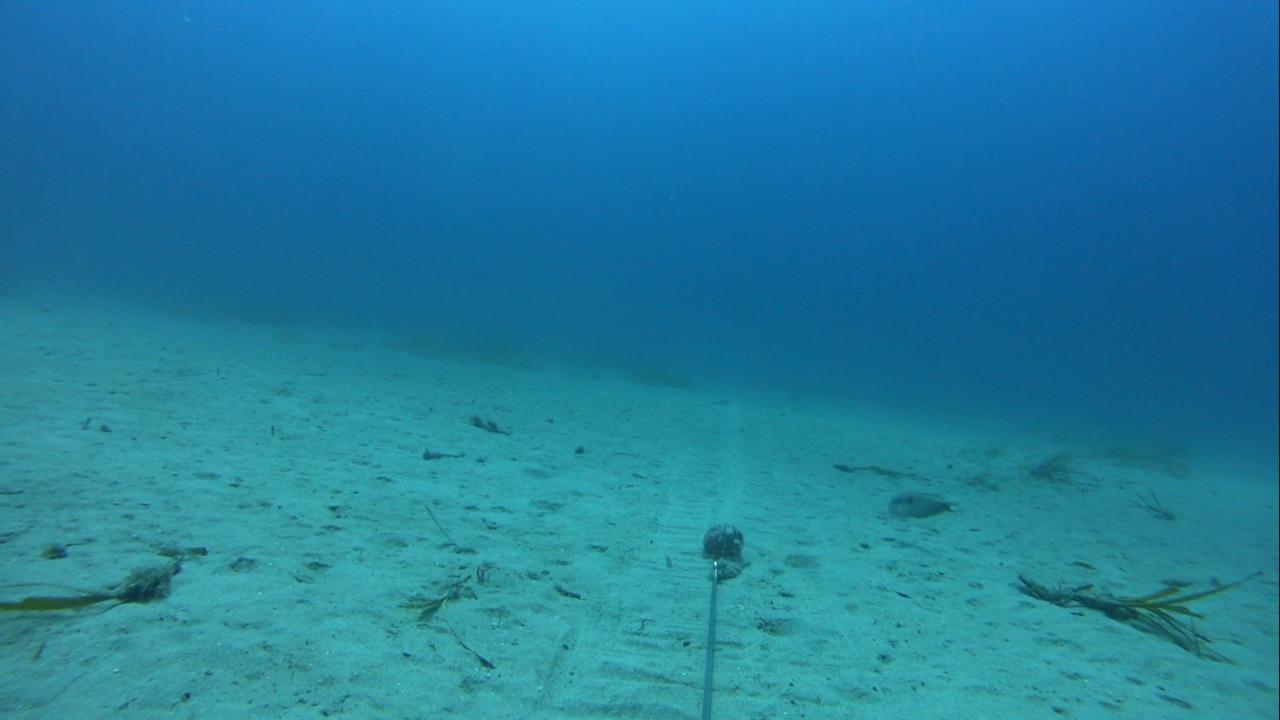raor: (882, 484, 955, 525)
